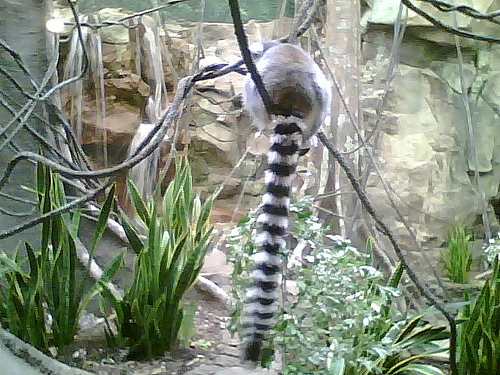cat: (235, 37, 335, 373)
